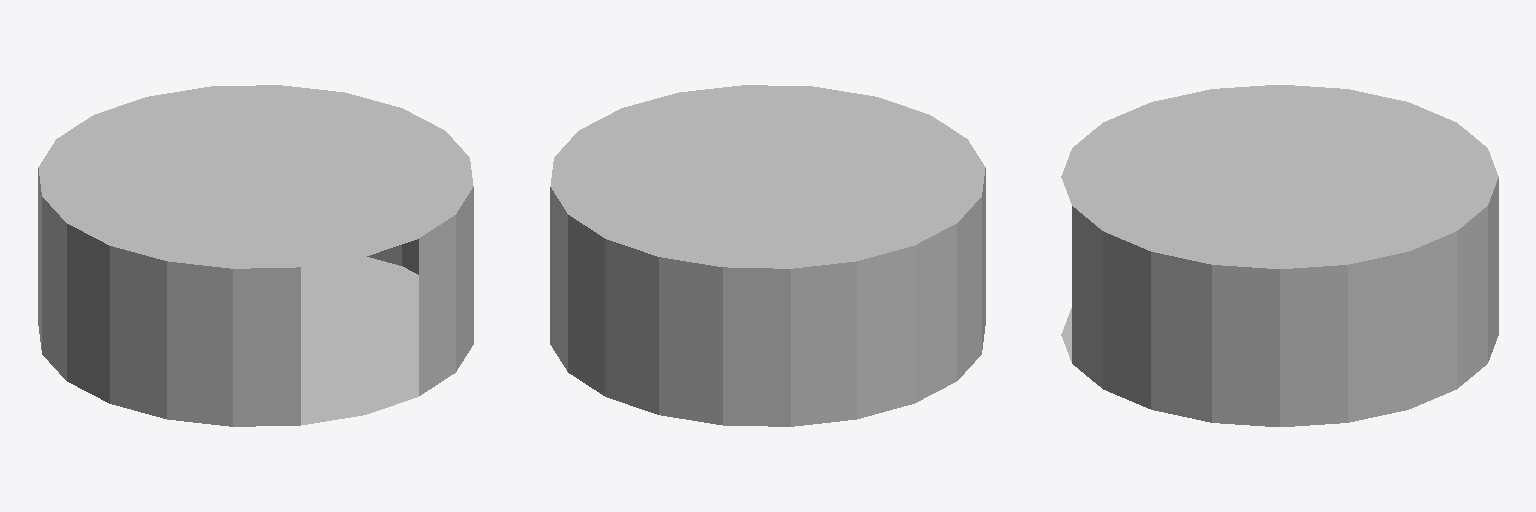
Rendered from spincap.obj.
3 views of the same model, side by side, from view 1: azimuth 30°, elevation 25°; view 2: azimuth 150°, elevation 25°; view 3: azimuth 270°, elevation 25° (orthographic).
Parts seen in each view (by area): view 1: pCylinder1, pCylinder2; view 2: pCylinder1, pCylinder2; view 3: pCylinder1, pCylinder2.
Part boxes in pixels (bbox=[...]): pCylinder1: bbox=[38, 85, 473, 426]; pCylinder2: bbox=[38, 85, 473, 425]; pCylinder1: bbox=[550, 85, 985, 426]; pCylinder2: bbox=[550, 85, 985, 426]; pCylinder1: bbox=[1061, 85, 1498, 426]; pCylinder2: bbox=[1061, 85, 1498, 426].
Bounding box in the file's own units: 6.79 × 2.71 × 6.79.